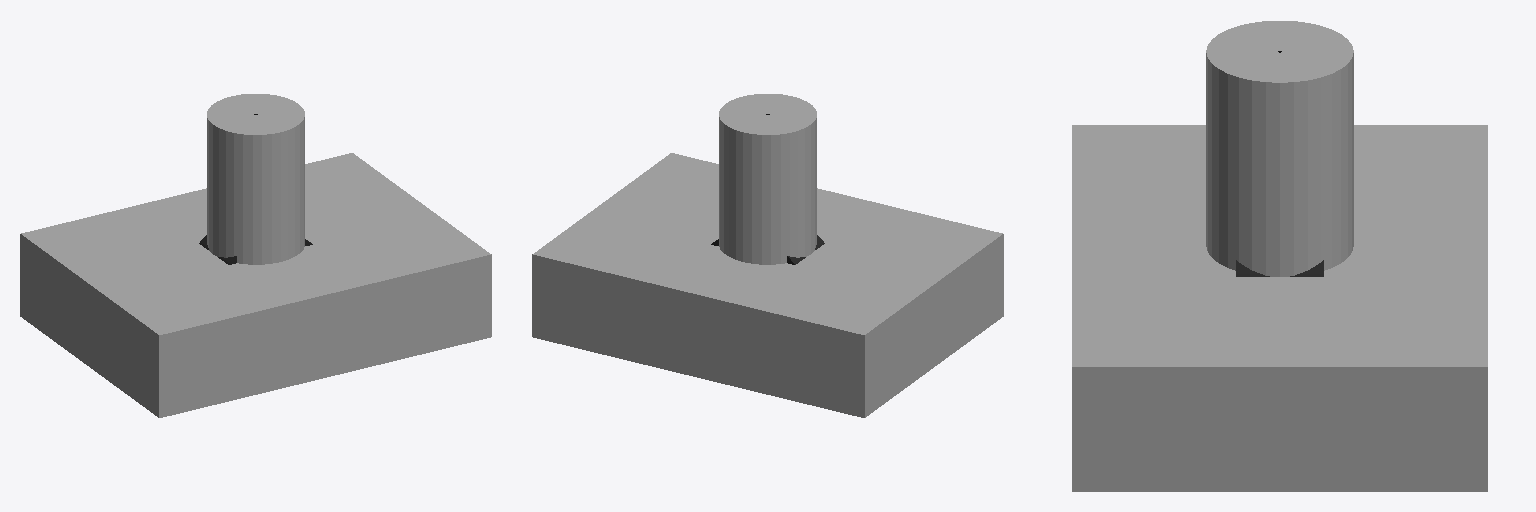
robot.urdf — evolved_robot:
<?xml version="1.0"?>
<robot name="evolved_robot">
  <material name="metal">
    <color rgba="0.7 0.7 0.7 1.0"/>
  </material>
  <material name="plastic">
    <color rgba="0.3 0.3 0.9 1.0"/>
  </material>
  <material name="rubber">
    <color rgba="0.1 0.1 0.1 1.0"/>
  </material>
  <material name="red">
    <color rgba="1.0 0.0 0.0 1.0"/>
  </material>
  <material name="wheel_material">
    <color rgba="0.2 0.2 0.2 1.0"/>
  </material>
  <link name="base_link">
    <visual>
      <geometry><box size="0.36947027690204315 0.2679192204188403 0.0882178935021293"/></geometry>
      <material name="metal"/>
    </visual>
    <collision>
      <geometry><box size="0.36947027690204315 0.2679192204188403 0.0882178935021293"/></geometry>
    </collision>
    <inertial>
      <mass value="5.0"/>
      <inertia ixx="0.06630258783649347" ixy="0" ixz="0" 
               iyy="0.12024223520668788" iyz="0" 
               izz="0.17357416181992633"/>
    </inertial>
  </link>
  <link name="link1">
    <visual>
      <geometry><sphere radius="0.025718812988674455"/></geometry>
      <material name="plastic"/>
    </visual>
    <collision>
      <geometry><sphere radius="0.025718812988674455"/></geometry>
    </collision>
    <inertial>
      <mass value="0.5"/>
      <inertia ixx="0.000264582936618564" ixy="0" ixz="0" 
               iyy="0.000264582936618564" iyz="0" 
               izz="0.000264582936618564"/>
    </inertial>
  </link>
  <joint name="joint1" type="revolute">
    <parent link="base_link"/>
    <child link="link1"/>
    <origin xyz="0 0 0.04410894675106465" rpy="0 0 0"/>
    <axis xyz="0.47161456261082824 -0.25099917231975494 -0.8453278179666129"/>
    <dynamics damping="0.7286138770830853" friction="0.1"/>
    <limit lower="-1.4056571553439232" upper="2.0410000000000004" effort="100" velocity="100"/>
  </joint>
  <link name="link2">
    <visual>
      <geometry><cylinder radius="0.04748461868768916" length="0.17589081206456914"/></geometry>
      <material name="metal"/>
    </visual>
    <collision>
      <geometry><cylinder radius="0.04748461868768916" length="0.17589081206456914"/></geometry>
    </collision>
    <inertial>
      <mass value="0.5"/>
      <inertia ixx="0.003141828733706608" ixy="0" ixz="0" 
               iyy="0.003141828733706608" iyz="0" 
               izz="0.0011273945059576194"/>
    </inertial>
  </link>
  <joint name="joint2" type="prismatic">
    <parent link="base_link"/>
    <child link="link2"/>
    <origin xyz="0 0 0.09410894675106465" rpy="0 0 0"/>
    <axis xyz="-0.1213542826155272 0.7814084394354781 -0.6121061908442696"/>
    <dynamics damping="0.783134629361819" friction="0.1"/>
    <limit lower="-2.1013286057260827" upper="2.0410000000000004" effort="100" velocity="100"/>
  </joint>
  <link name="link3">
    <visual>
      <geometry><sphere radius="0.038102241333459304"/></geometry>
      <material name="rubber"/>
    </visual>
    <collision>
      <geometry><sphere radius="0.038102241333459304"/></geometry>
    </collision>
    <inertial>
      <mass value="0.5"/>
      <inertia ixx="0.0005807123178532698" ixy="0" ixz="0" 
               iyy="0.0005807123178532698" iyz="0" 
               izz="0.0005807123178532698"/>
    </inertial>
  </link>
  <joint name="joint3" type="prismatic">
    <parent link="base_link"/>
    <child link="link3"/>
    <origin xyz="0 0 0.14410894675106467" rpy="0 0 0"/>
    <axis xyz="-0.3754868914110858 0.12877369787497456 0.9178381824232659"/>
    <dynamics damping="0.8258192548819009" friction="0.1"/>
    <limit lower="-1.9722058560484295" upper="1.4325630966673342" effort="100" velocity="100"/>
  </joint>
  <link name="link4">
    <visual>
      <geometry>
        <cylinder radius="0.06458918892878783" length="0.05724263080501997"/>
      </geometry>
      <material name="wheel_material"/>
    </visual>
    <collision>
      <geometry>
        <cylinder radius="0.06458918892878783" length="0.05724263080501997"/>
      </geometry>
    </collision>
    <inertial>
      <mass value="1.0"/>
      <inertia ixx="0.0013160007300763138" ixy="0" ixz="0" 
               iyy="0.0013160007300763138" iyz="0" 
               izz="0.002085881663239324"/>
    </inertial>
  </link>
  <joint name="joint4" type="continuous">
    <parent link="base_link"/>
    <child link="link4"/>
    <origin xyz="0 0 0" rpy="1.5708 0 0"/>
    <axis xyz="0 1 0"/>
    <dynamics damping="0.811539504510677" friction="0.1"/>
  </joint>
</robot>

--- Render facts (derived) ---
The picture shows the robot from 3 angles, left to right: view 1: azimuth 30°, elevation 25°; view 2: azimuth 150°, elevation 25°; view 3: azimuth 270°, elevation 25°; orthographic projection.
Model evolved_robot with 5 links and 4 joints (1 revolute, 1 continuous, 2 prismatic), rooted at base_link, posed all joints at 0.
Links seen in each view (by area): view 1: base_link, link2; view 2: base_link, link2; view 3: base_link, link2.
Boxes of the visible links, x1=… form: base_link: x1=20, y1=153, x2=491, y2=417; link2: x1=207, y1=94, x2=304, y2=264; base_link: x1=532, y1=153, x2=1003, y2=417; link2: x1=719, y1=94, x2=816, y2=264; base_link: x1=1072, y1=125, x2=1487, y2=491; link2: x1=1206, y1=21, x2=1353, y2=276.
Bounding box of the posed robot: 0.3695 × 0.2679 × 0.2468 m (x, y, z).
Geometry: primitives only (box / cylinder / sphere), no mesh files.